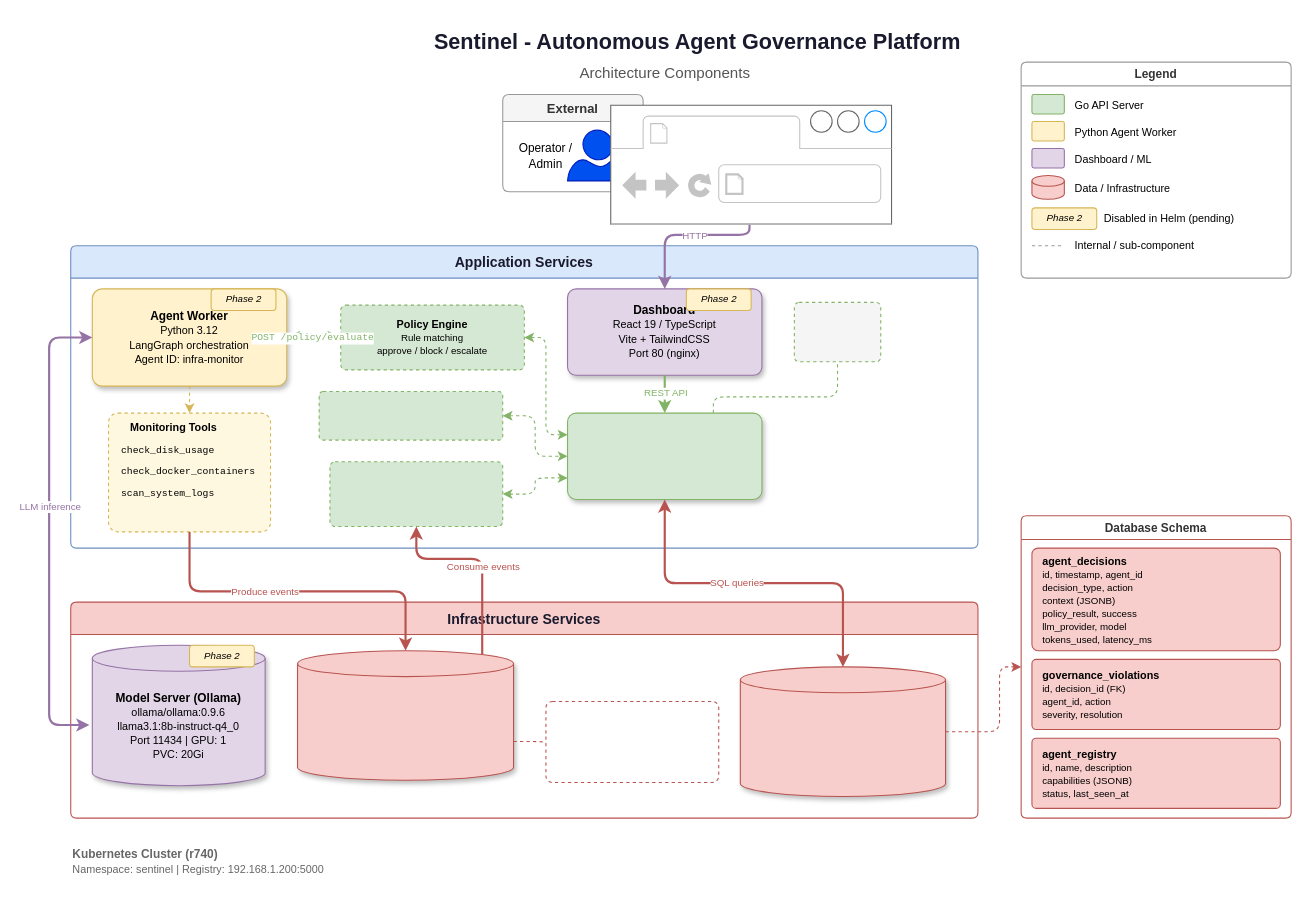
Some shapes in this 1310 by 901 pixel diagram are drawn without their labels. The shapes that lost their labels are listed below. From the top down, each one's centre as x and y in pixels, then its label:
At pixel 670 131: "Web Browser".
At pixel 837 331: "/metrics /healthz /readyz".
At pixel 410 415: "Audit Handler decisions, trail, agents".
At pixel 665 457: "API Server Go 1.26 chi router Port 8080".
At pixel 416 493: "Kafka Consumer Event ingestion group: sentinel-api".
At pixel 406 716: "Apache Kafka 4.0 KRaft mode (no ZooKeeper) Port 9092 PVC: 10Gi".
At pixel 843 733: "PostgreSQL 18 bitnami/postgresql:18.4.0 Port 5432 DB: sentinel PVC: 10Gi".
At pixel 632 741: "Topics (3 partitions each): agent.decisions agent.actions agent.outcomes".
